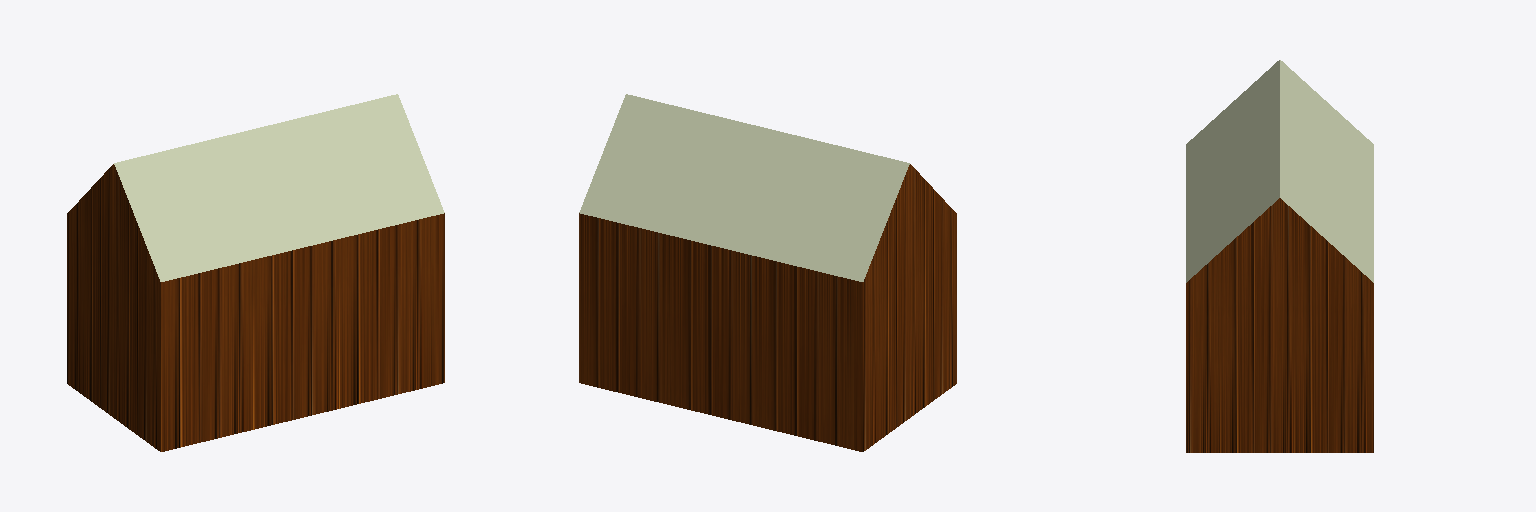
3 renders of one model, left to right at view 1: azimuth 30°, elevation 25°; view 2: azimuth 150°, elevation 25°; view 3: azimuth 270°, elevation 25°, orthographic.
Visible parts, largest first — view 1: Cube1; view 2: Cube1; view 3: Cube1.
Boxes of the visible parts, x1=… form: Cube1: x1=67, y1=94, x2=444, y2=451; Cube1: x1=579, y1=94, x2=956, y2=451; Cube1: x1=1186, y1=60, x2=1373, y2=452.
Bounding box in the file's own units: 3.5 × 3 × 2.
2 materials, 1 textured.